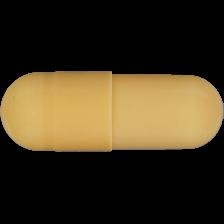43063-673: (0, 0, 224, 224)
